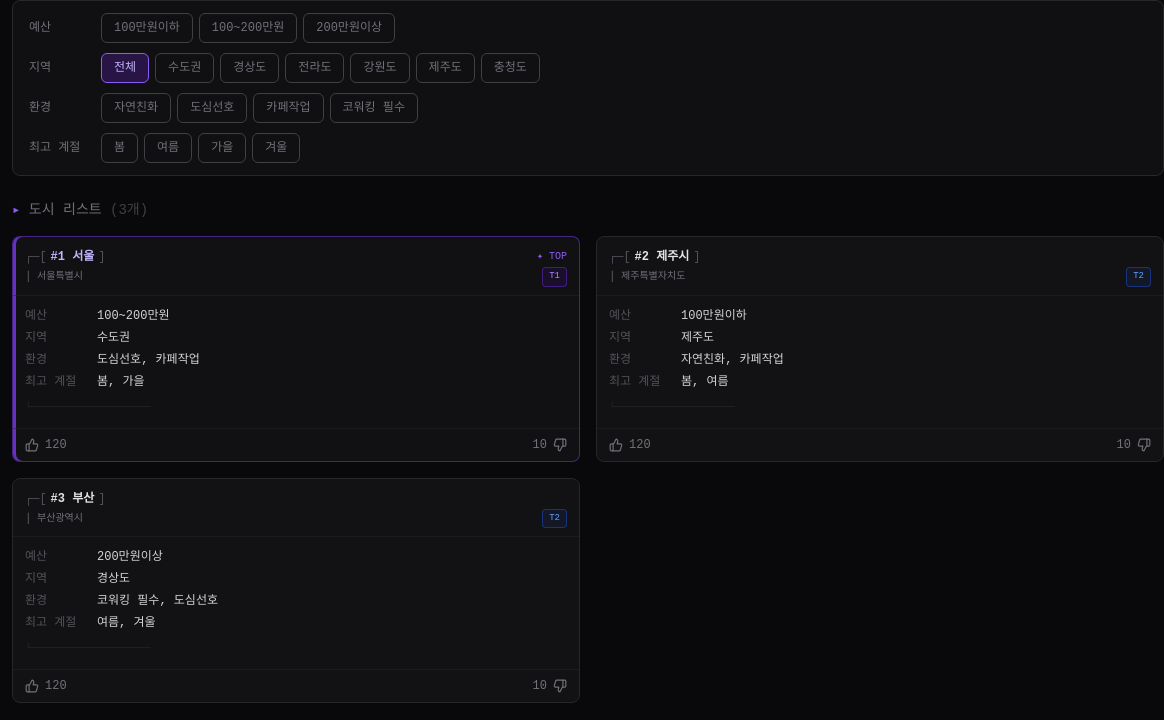
Test: CitySection › budget filter: only cities matching the budget are shown
# Click '100만원이하' budget filter button
Click the button "100만원이하".
click(147, 28)  # box [101,13,193,43]
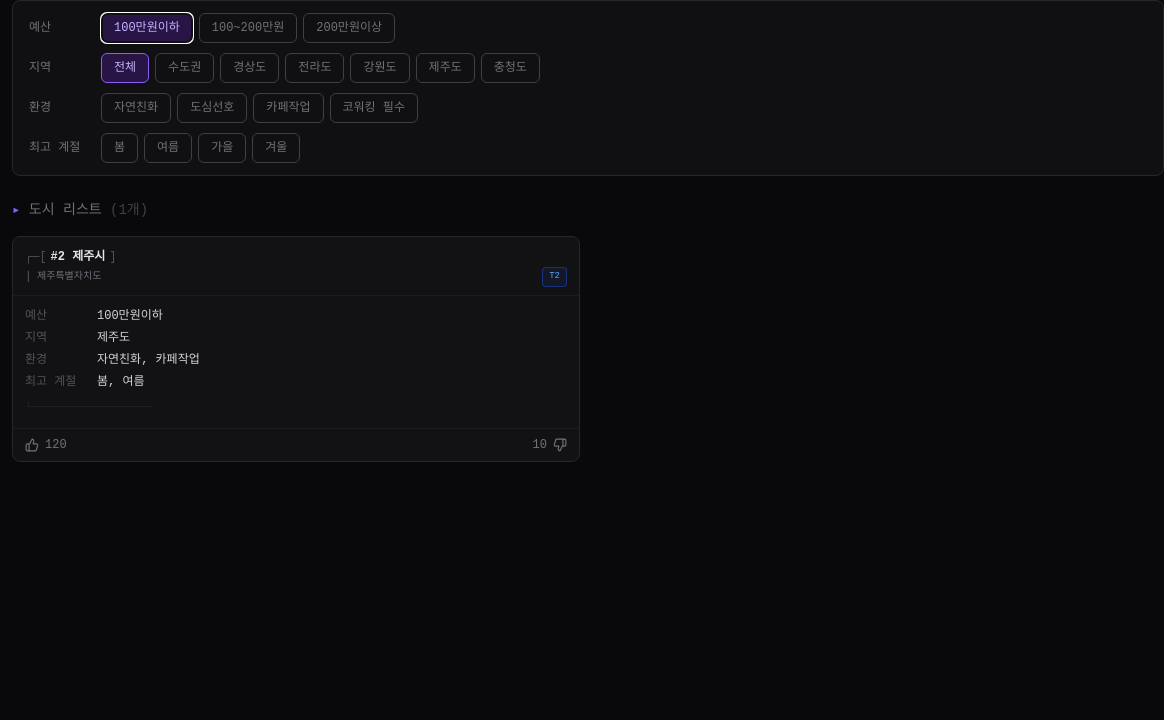
Expected: the text "#2 제주시" is shown, [51,249,105,265]
Expected: the link "#1 서울" is gone
Expected: the link "#3 부산" is gone
